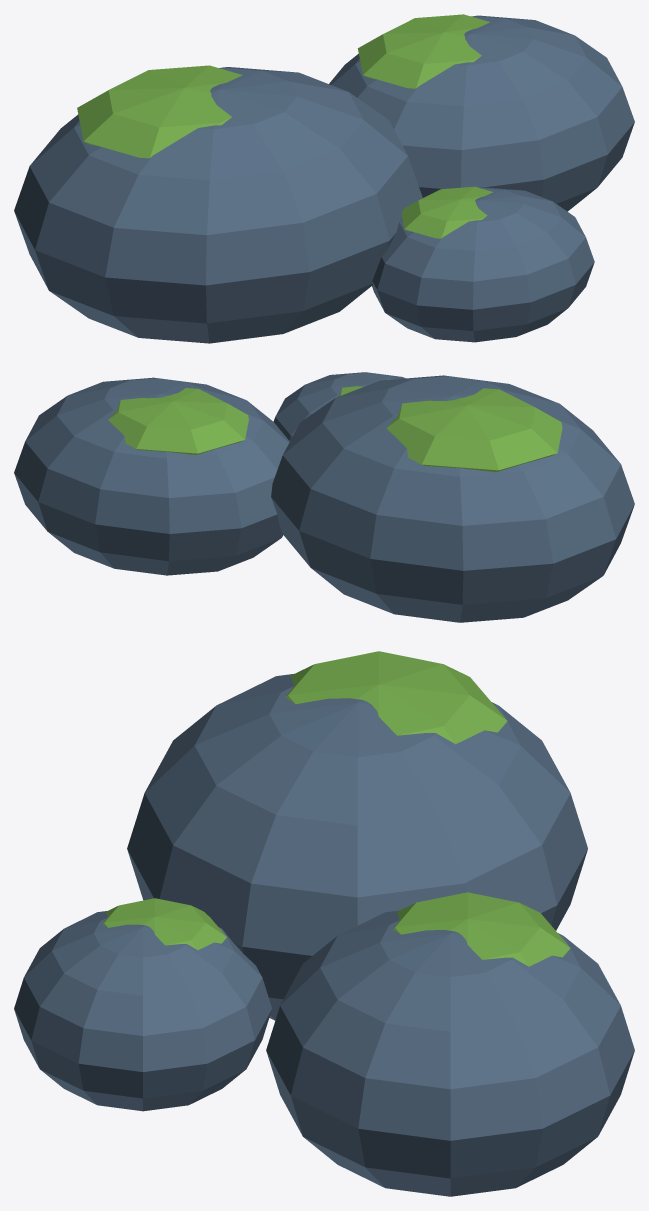
File: rock_cluster.glb
3 renders of one model, top to bottom at view 1: azimuth 30°, elevation 25°; view 2: azimuth 150°, elevation 25°; view 3: azimuth 270°, elevation 25°, orthographic. The views are drawn at different scales.
Parts seen in each view (by area): view 1: Mossy stone.001_Surface, Mossy stone.002_Surface, Mossy stone.003_Surface; view 2: Mossy stone.001_Surface, Mossy stone.002_Surface, Mossy stone.003_Surface; view 3: Mossy stone.001_Surface, Mossy stone.002_Surface, Mossy stone.003_Surface.
Part boxes in pixels (x1,y1,x2,y2): Mossy stone.001_Surface: (14,65,422,343); Mossy stone.002_Surface: (329,14,634,211); Mossy stone.003_Surface: (372,186,594,342); Mossy stone.001_Surface: (271,375,634,622); Mossy stone.002_Surface: (14,377,289,575); Mossy stone.003_Surface: (273,372,405,440); Mossy stone.001_Surface: (127,651,587,1020); Mossy stone.002_Surface: (266,892,634,1196); Mossy stone.003_Surface: (14,898,271,1111).
Size of the model in its own units: 1.27 by 0.4088 by 0.8686.
1 material, 1 textured.
